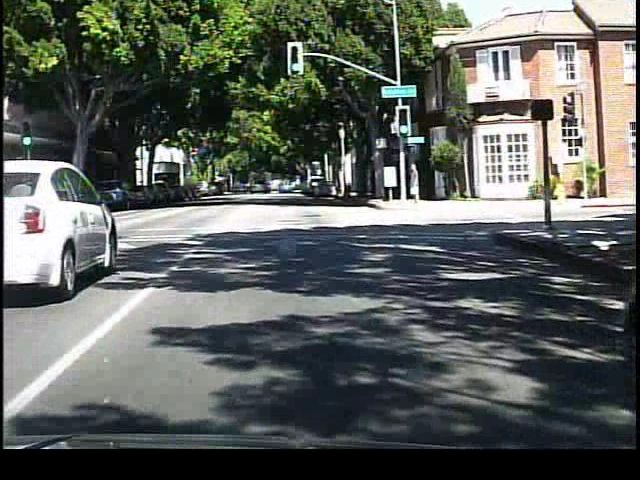person: (408, 158, 428, 209)
